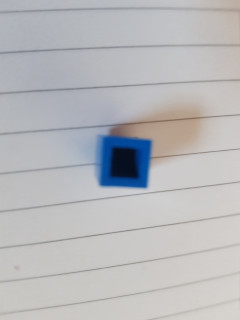1x1 blue: (95, 134, 153, 190)
